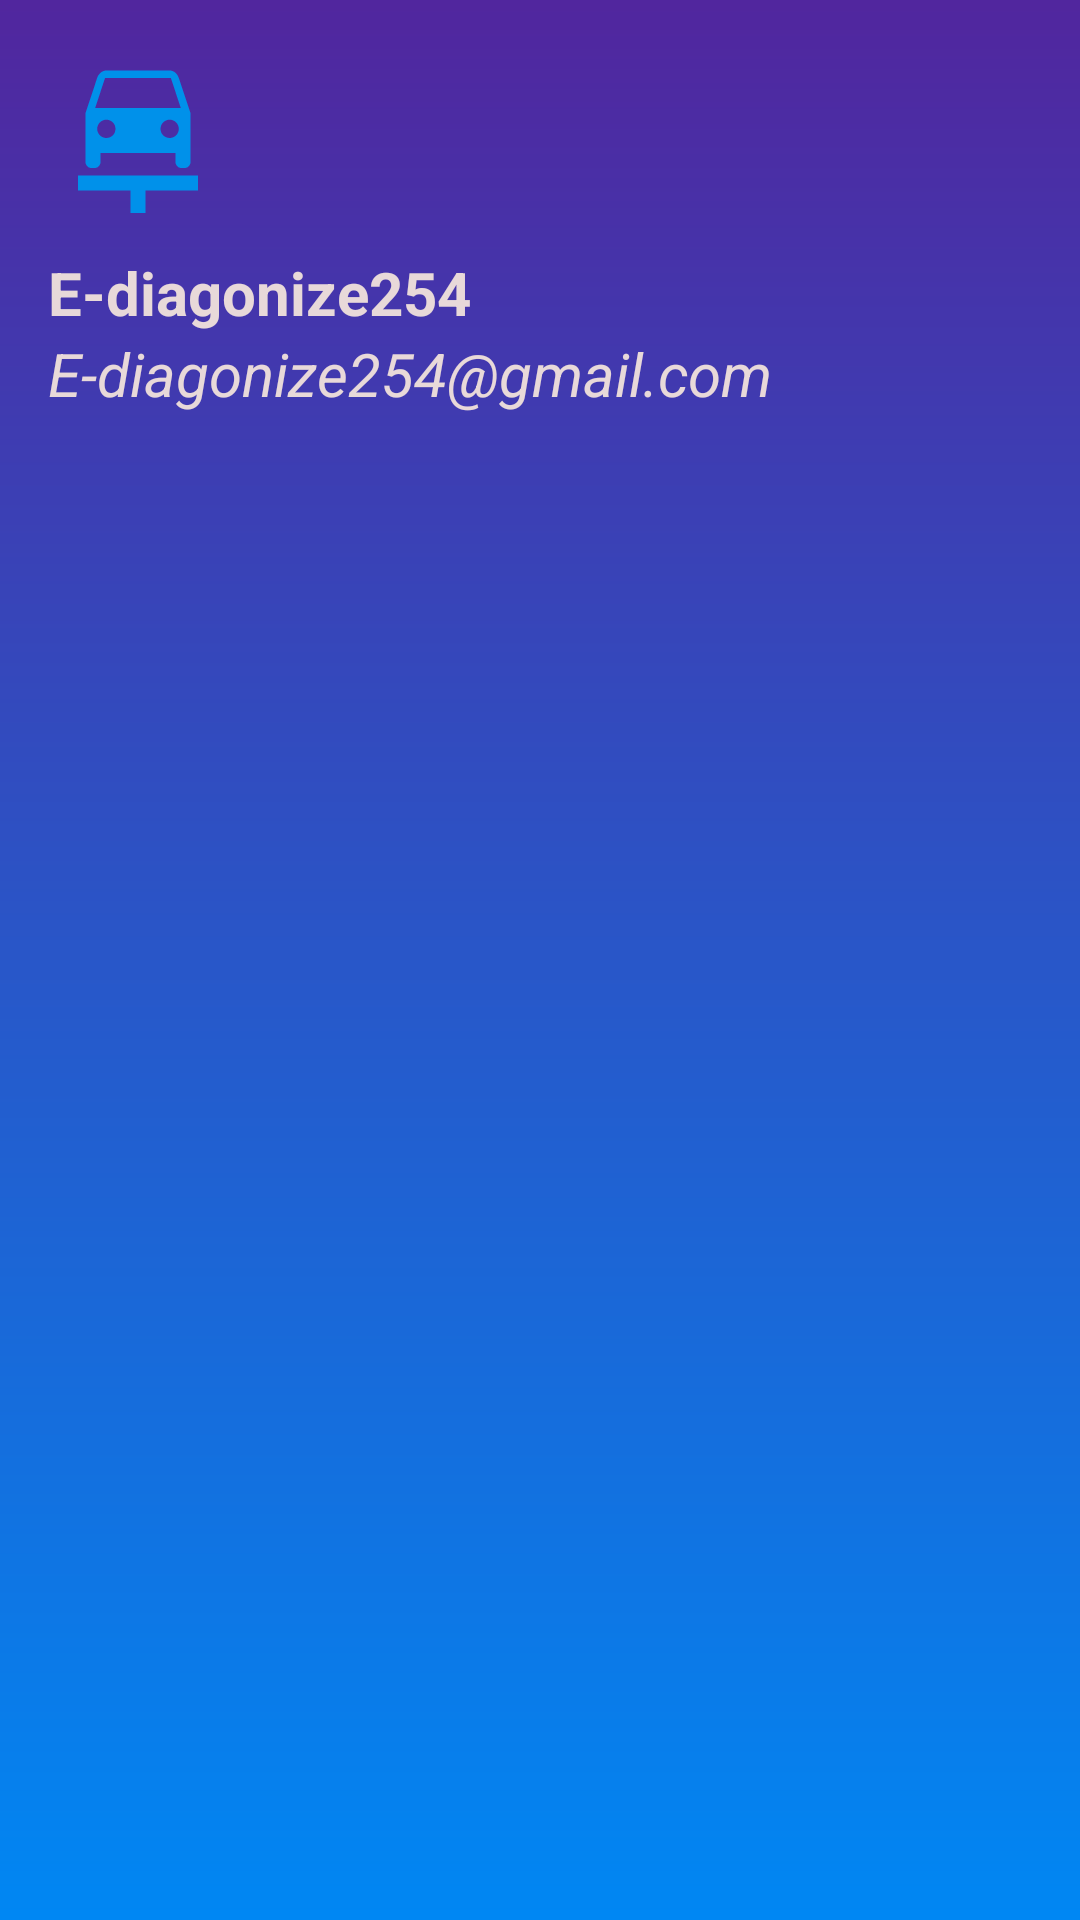

Icons on this 1080w x 1920h Android screen, each with its box as (x1, y1, x2, y2):
car repair: (78, 70, 198, 213)
